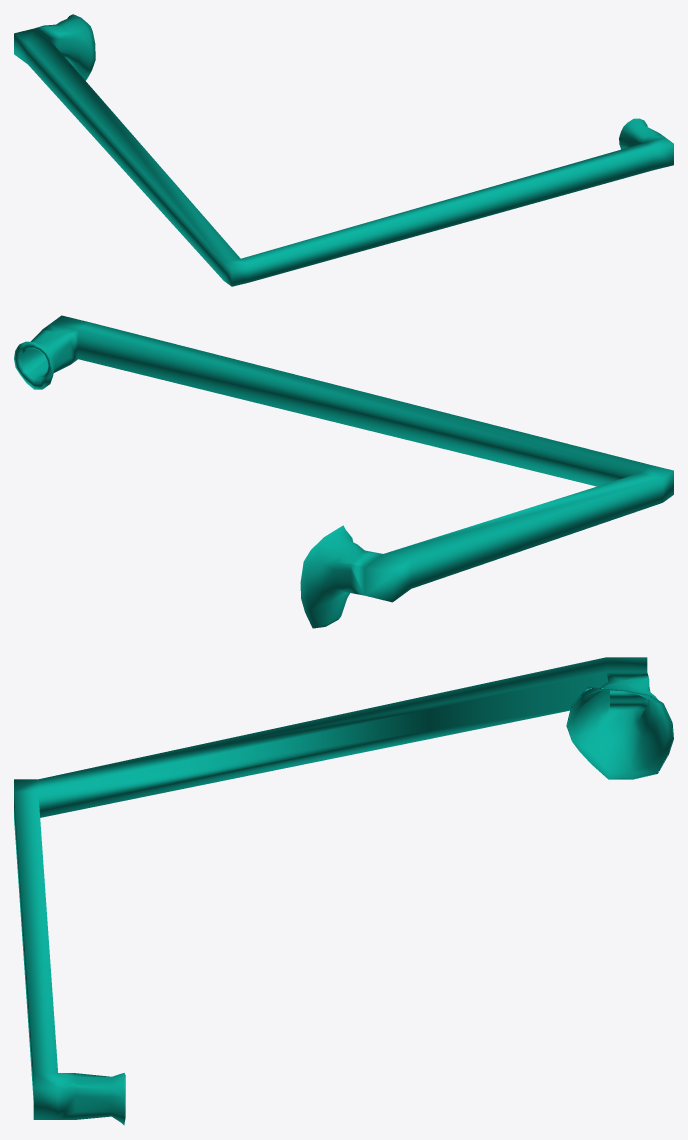
Rendered from SM_Vent_1.5.fbx.
3 renders of one model, top to bottom at view 1: azimuth 30°, elevation 25°; view 2: azimuth 150°, elevation 25°; view 3: azimuth 270°, elevation 25°, orthographic. The views are drawn at different scales.
Parts seen in each view (by area): view 1: SM_Vent_1_5; view 2: SM_Vent_1_5; view 3: SM_Vent_1_5.
Boxes of the visible parts, x1,y1,x2,y2 form: SM_Vent_1_5: (14, 14, 673, 286); SM_Vent_1_5: (14, 315, 673, 628); SM_Vent_1_5: (14, 657, 673, 1125).
Bounding box in the file's own units: 3361 × 755 × 2829.
